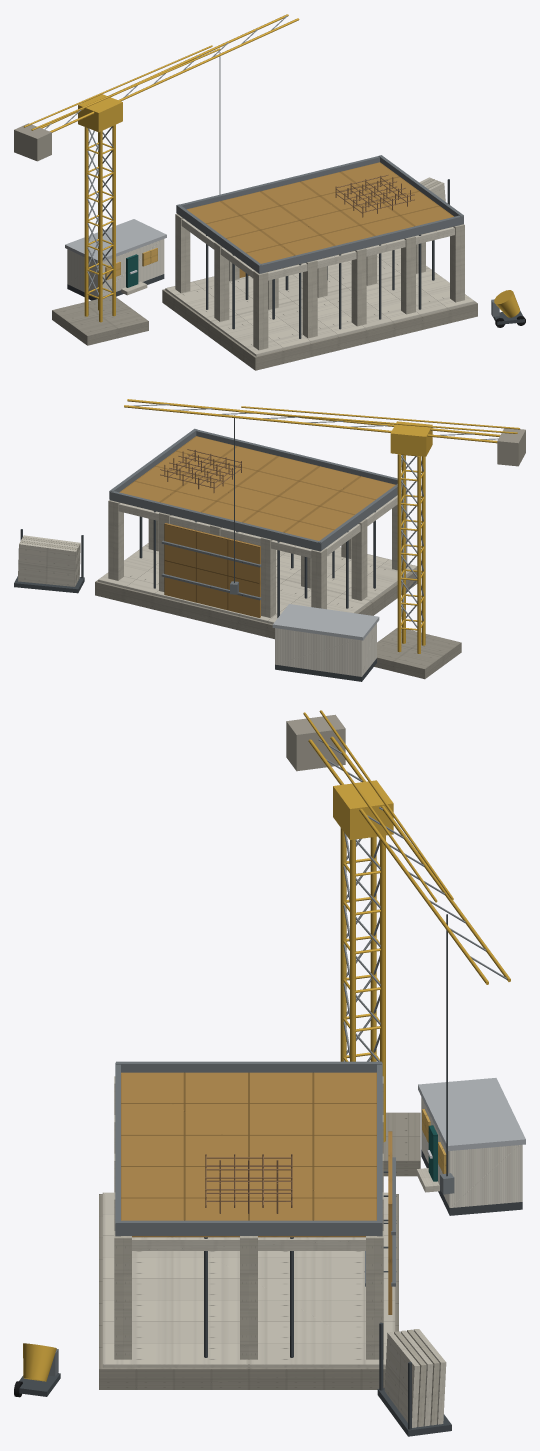
File: fun-6-construction.glb
The picture shows the model from 3 angles, top to bottom: view 1: azimuth 30°, elevation 25°; view 2: azimuth 150°, elevation 25°; view 3: azimuth 270°, elevation 25°; orthographic projection. The views are drawn at different scales.
Size of the model in its own units: 29.95 by 14.55 by 17.91.
Materials: 21 (12 with a texture image).
